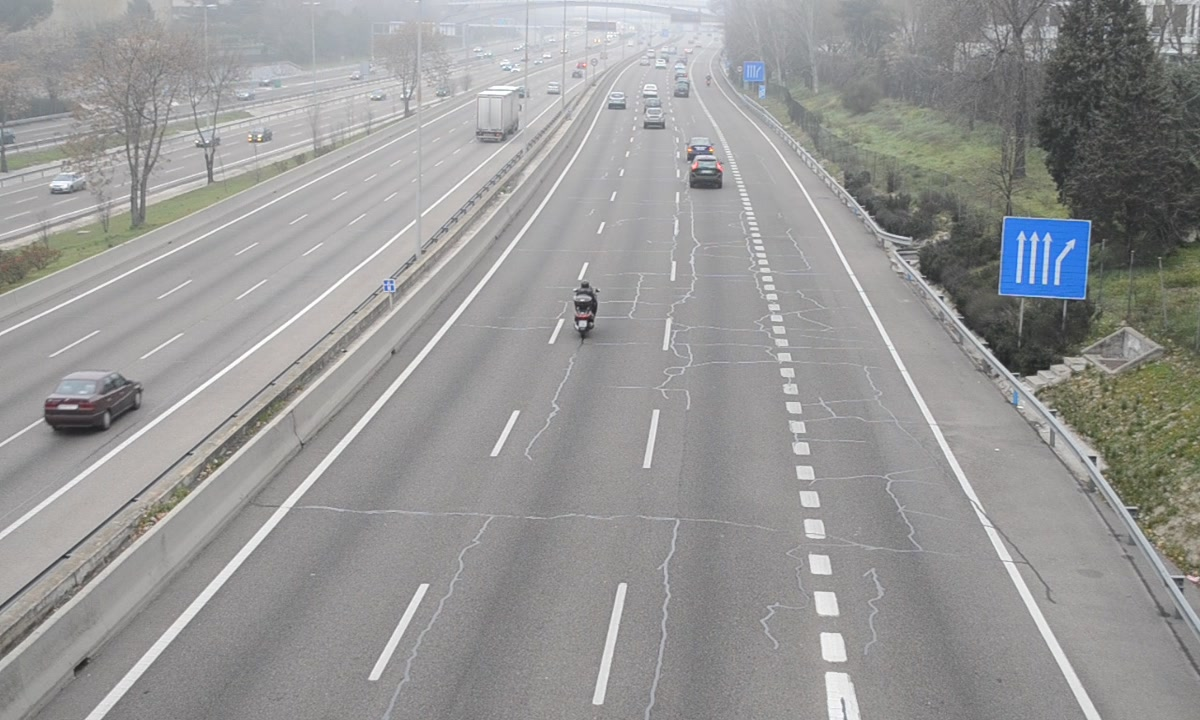car: (689, 155, 723, 187), (687, 137, 714, 158)
motorcycle: (570, 279, 598, 341)
